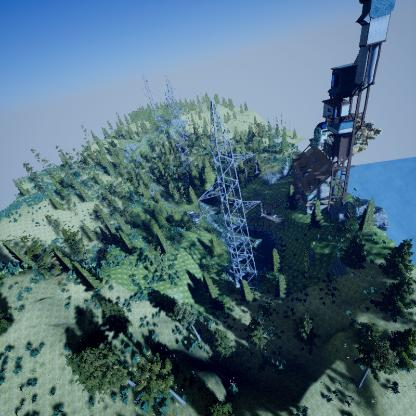tower: (194, 99, 268, 295)
